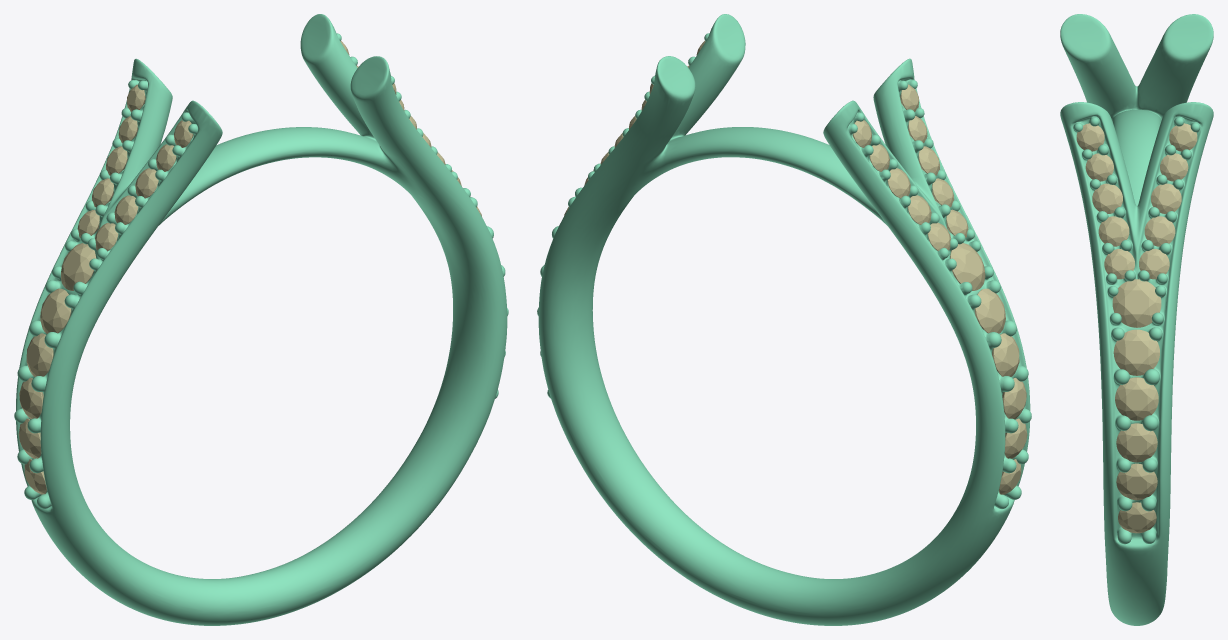
3 views of the same model, side by side, from view 1: azimuth 30°, elevation 25°; view 2: azimuth 150°, elevation 25°; view 3: azimuth 270°, elevation 25° (orthographic). The views are drawn at different scales.
Parts seen in each view (by area): view 1: Metal02, Diamond_Gem.005, Diamond_Gem.004, Diamond_Gem.003, Diamond_Gem.001; view 2: Metal02, Diamond_Gem.005, Diamond_Gem.004, Diamond_Gem.003, Diamond_Gem.001; view 3: Metal02, Diamond_Gem.026, Diamond_Gem.027, Diamond_Gem.028, Diamond_Gem.030, Diamond_Gem.029, Diamond_Gem.031, Diamond_Gem.017, Diamond_Gem.016, Diamond_Gem.020, Diamond_Gem.023, Diamond_Gem.019 (+5 smaller).
Boxes of the visible parts, x1=… form: Metal02: x1=14, y1=14, x2=508, y2=625; Diamond_Gem.005: x1=61, y1=243, x2=96, y2=290; Diamond_Gem.004: x1=40, y1=288, x2=71, y2=333; Diamond_Gem.003: x1=26, y1=333, x2=53, y2=376; Diamond_Gem.001: x1=19, y1=377, x2=43, y2=418; Metal02: x1=537, y1=14, x2=1031, y2=625; Diamond_Gem.005: x1=950, y1=243, x2=985, y2=290; Diamond_Gem.004: x1=974, y1=288, x2=1005, y2=333; Diamond_Gem.003: x1=992, y1=333, x2=1019, y2=376; Diamond_Gem.001: x1=1002, y1=377, x2=1026, y2=419; Metal02: x1=1060, y1=14, x2=1213, y2=625; Diamond_Gem.026: x1=1112, y1=279, x2=1161, y2=327; Diamond_Gem.027: x1=1113, y1=329, x2=1159, y2=375; Diamond_Gem.028: x1=1115, y1=377, x2=1158, y2=420; Diamond_Gem.030: x1=1116, y1=423, x2=1157, y2=462; Diamond_Gem.029: x1=1116, y1=463, x2=1157, y2=500; Diamond_Gem.031: x1=1118, y1=502, x2=1156, y2=533; Diamond_Gem.017: x1=1151, y1=183, x2=1181, y2=213; Diamond_Gem.016: x1=1092, y1=183, x2=1122, y2=213; Diamond_Gem.020: x1=1144, y1=216, x2=1175, y2=246; Diamond_Gem.023: x1=1098, y1=216, x2=1129, y2=246; Diamond_Gem.019: x1=1139, y1=249, x2=1169, y2=279.
Bounding box in the file's own units: 20.93 × 23.28 × 5.96.
